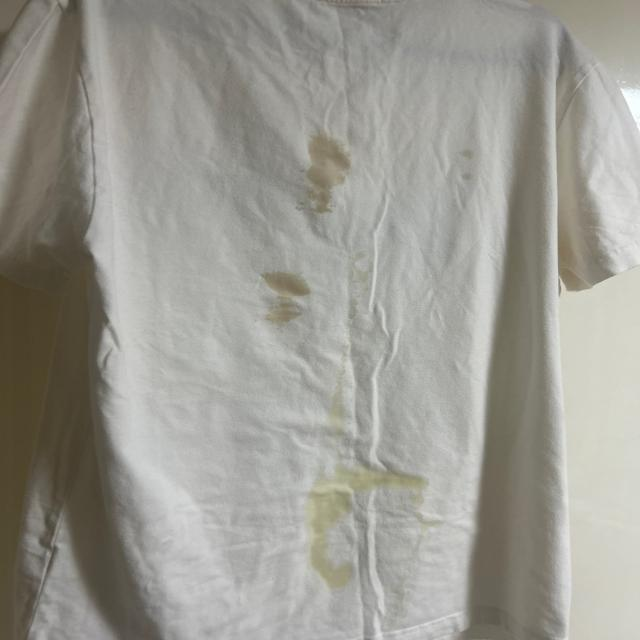stain: (324, 463, 436, 496), (303, 131, 348, 212), (303, 532, 357, 596), (257, 267, 308, 324), (299, 491, 355, 533), (315, 388, 353, 436), (452, 142, 481, 183), (349, 248, 372, 294)
